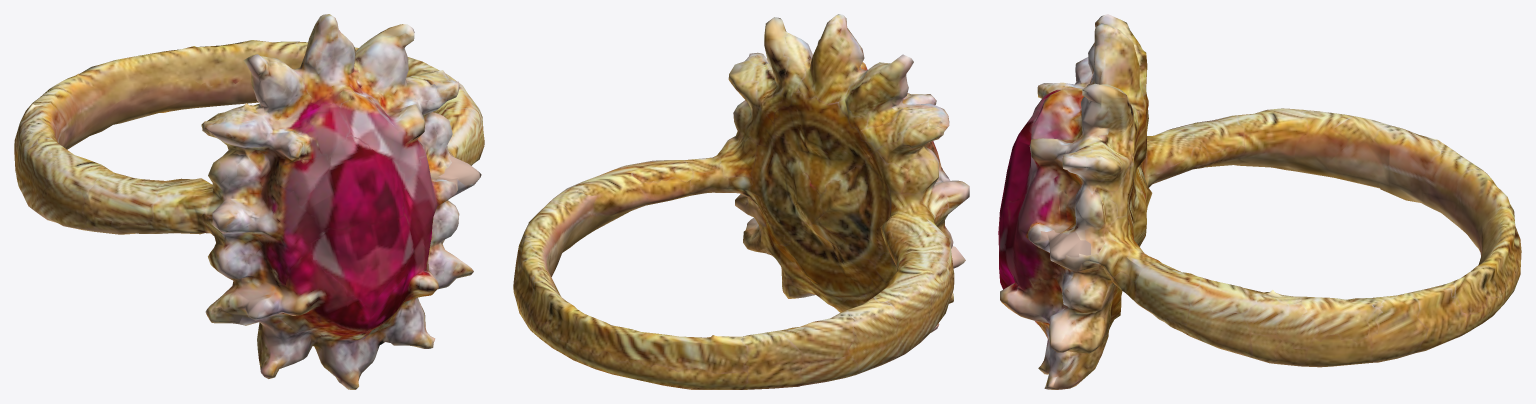
The model's file is free_low_poly_ruby_diamond_ring.glb.
3 renders of one model, left to right at view 1: azimuth 30°, elevation 25°; view 2: azimuth 150°, elevation 25°; view 3: azimuth 270°, elevation 25°, orthographic. The views are drawn at different scales.
Parts seen in each view (by area): view 1: Mesh_0_Material_0_0; view 2: Mesh_0_Material_0_0; view 3: Mesh_0_Material_0_0.
Part boxes in pixels (x1,y1,x2,y2): Mesh_0_Material_0_0: [14, 14, 484, 389]; Mesh_0_Material_0_0: [513, 14, 969, 389]; Mesh_0_Material_0_0: [998, 14, 1521, 389].
Size of the model in its own units: 1.09 by 0.8886 by 1.2.
Materials: 1 (1 with a texture image).
